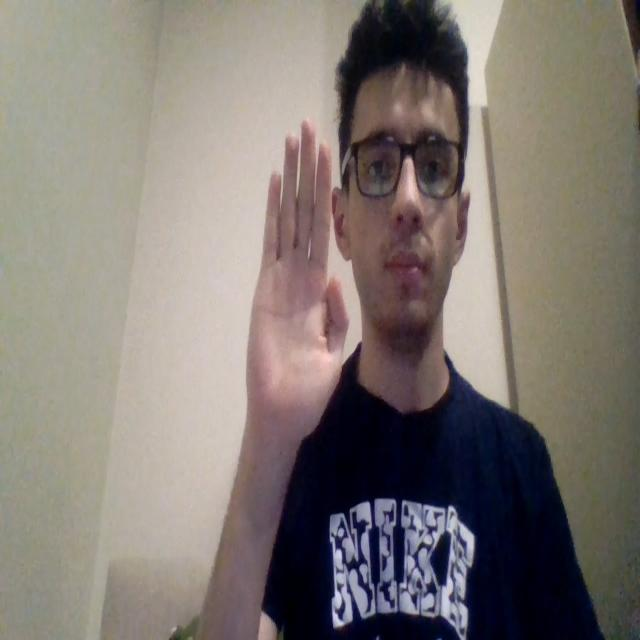hello: (244, 117, 350, 448)
